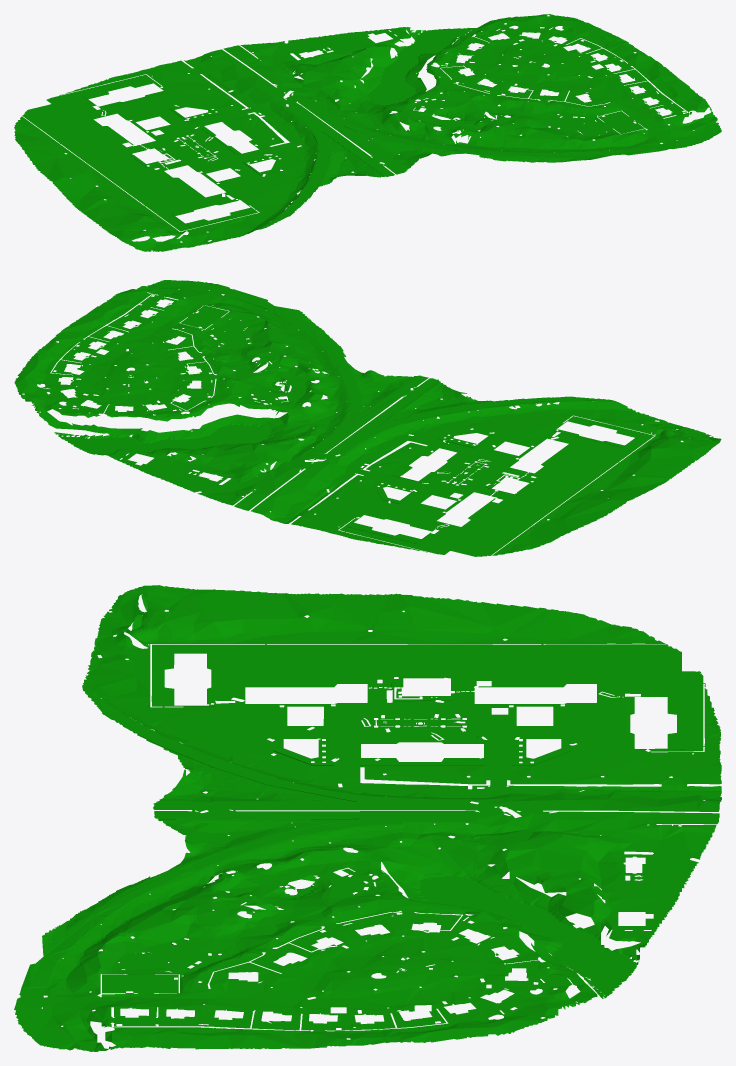
Rendered from Infantry.obj.
3 views of the same model, one above another, from view 1: azimuth 30°, elevation 25°; view 2: azimuth 150°, elevation 25°; view 3: azimuth 270°, elevation 25° (orthographic). The views are drawn at different scales.
Parts seen in each view (by area): view 1: ground; view 2: ground; view 3: ground.
Part boxes in pixels (x1,y1,x2,y2): ground: (14, 14, 721, 251); ground: (14, 280, 721, 556); ground: (14, 585, 721, 1051).
Bounding box in the file's own units: 621 × 14.87 × 399.
